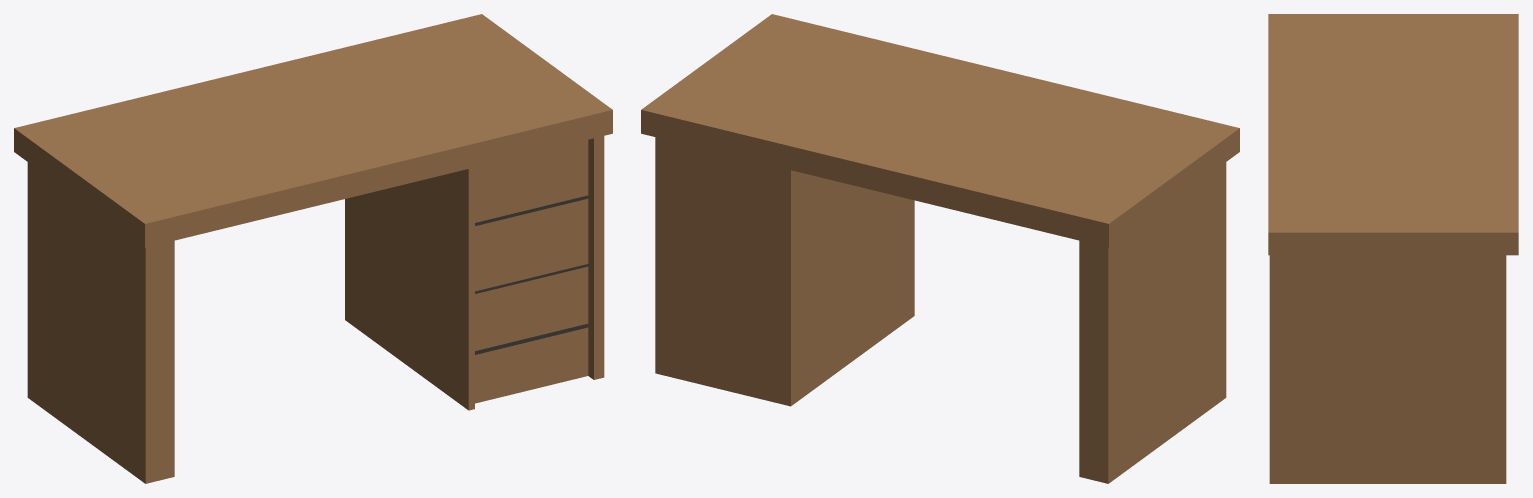
File: Desk_2.fbx
3 renders of one model, left to right at view 1: azimuth 30°, elevation 25°; view 2: azimuth 150°, elevation 25°; view 3: azimuth 270°, elevation 25°, orthographic. The views are drawn at different scales.
Visible parts, largest first — view 1: polySurface2056; view 2: polySurface2056; view 3: polySurface2056.
Boxes of the visible parts, bbox=[...] form: polySurface2056: bbox=[14, 14, 612, 483]; polySurface2056: bbox=[641, 14, 1239, 483]; polySurface2056: bbox=[1268, 14, 1518, 483].
Bounding box in the file's own units: 1.68 × 0.9158 × 0.8157.
1 material, 1 textured.
